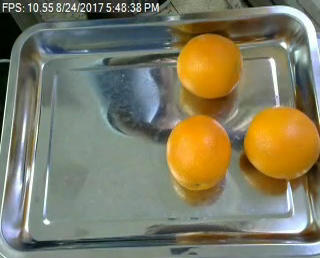Orange: (242, 106, 319, 181), (166, 114, 231, 190), (176, 33, 244, 99)
